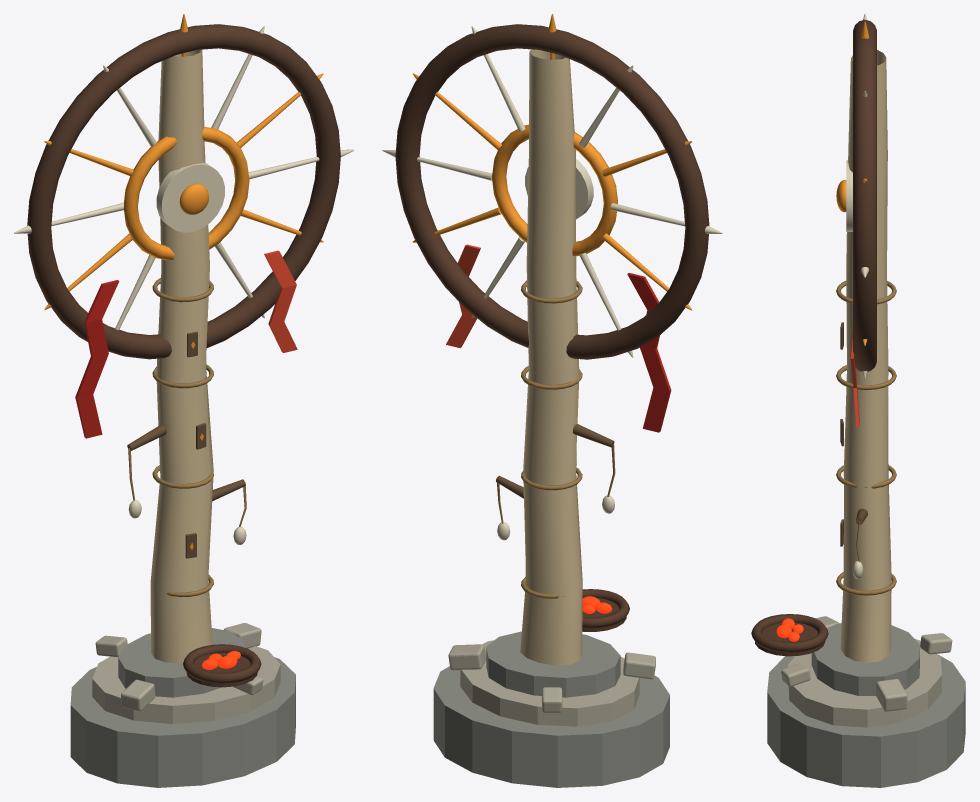
Rendered from sun_totem.glb.
3 views of the same model, side by side, from view 1: azimuth 30°, elevation 25°; view 2: azimuth 150°, elevation 25°; view 3: azimuth 270°, elevation 25° (orthographic).
Visible parts, largest first — view 1: sun_totem; view 2: sun_totem; view 3: sun_totem.
Boxes of the visible parts, x1,y1,x2,y2 form: sun_totem: (14, 14, 353, 787); sun_totem: (382, 14, 722, 787); sun_totem: (751, 14, 965, 787).
Bounding box in the file's own units: 2.72 × 5.58 × 1.51.
